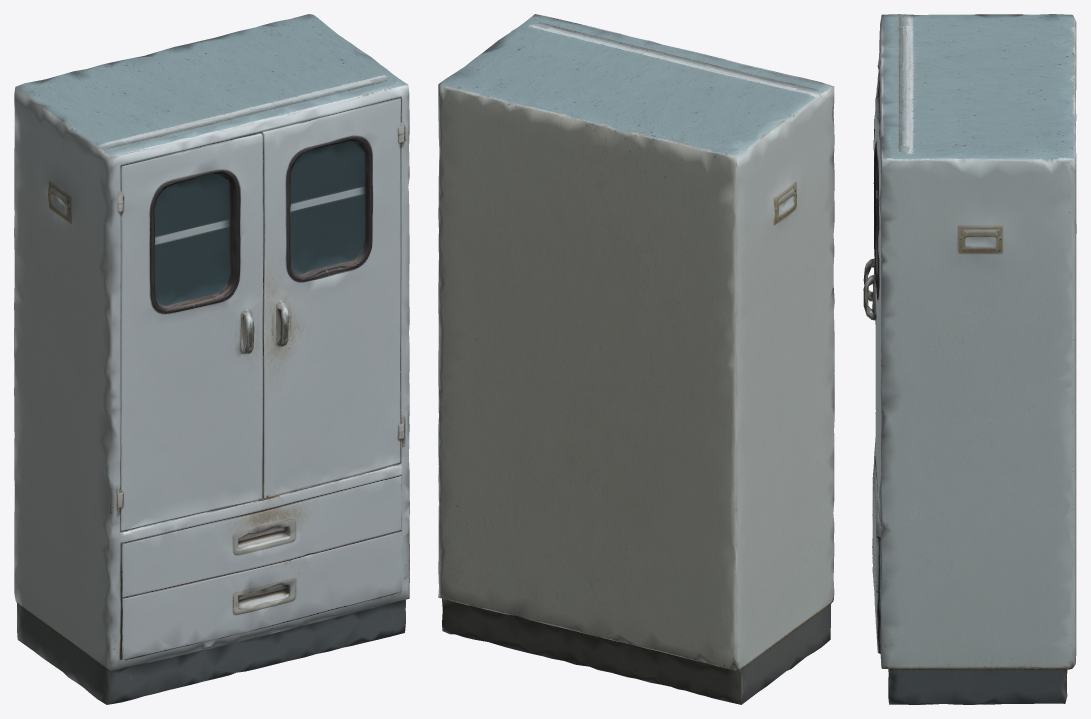
The model's file is CFD_EmergencyCabinet.glb.
3 renders of one model, left to right at view 1: azimuth 30°, elevation 25°; view 2: azimuth 150°, elevation 25°; view 3: azimuth 270°, elevation 25°, orthographic.
Visible parts, largest first — view 1: texture_mapping; view 2: texture_mapping; view 3: texture_mapping.
Boxes of the visible parts, x1,y1,x2,y2 form: texture_mapping: (14, 14, 409, 704); texture_mapping: (438, 14, 834, 704); texture_mapping: (863, 14, 1076, 704).
Bounding box in the file's own units: 0.5765 × 1 × 0.3531.
1 material, 1 textured.
